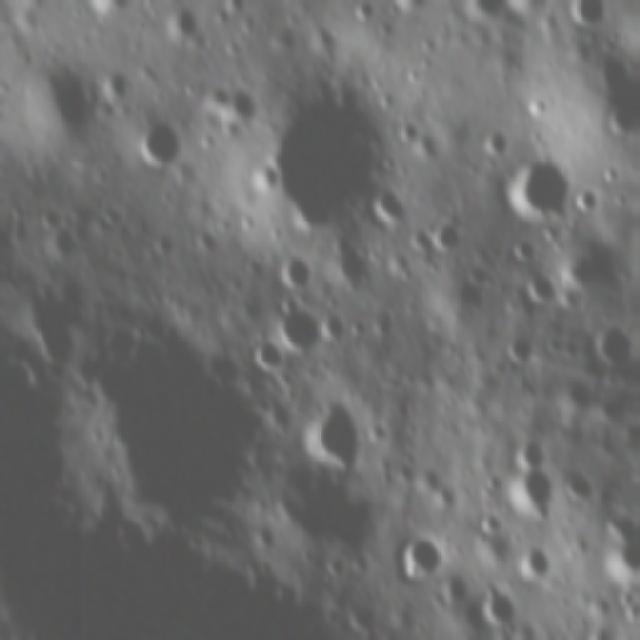crater: (93, 326, 270, 534), (256, 78, 398, 234), (24, 276, 88, 376), (298, 394, 372, 475), (40, 62, 106, 140), (506, 158, 582, 224), (139, 114, 192, 175), (277, 299, 332, 356), (332, 228, 378, 290), (400, 530, 451, 584), (590, 320, 638, 377), (566, 2, 628, 43), (473, 580, 521, 631), (224, 80, 268, 131), (522, 270, 575, 312), (559, 374, 604, 418), (430, 213, 475, 256), (98, 62, 140, 106), (375, 188, 416, 232), (571, 178, 615, 218), (465, 0, 532, 26), (254, 332, 292, 377), (515, 468, 556, 508), (562, 469, 604, 508), (478, 120, 516, 163), (519, 537, 556, 581), (278, 254, 320, 292), (32, 196, 78, 230), (46, 222, 86, 260), (439, 566, 475, 608), (170, 7, 207, 45), (506, 333, 542, 372), (511, 233, 547, 270), (518, 432, 552, 468), (352, 0, 391, 31), (193, 220, 224, 257), (147, 227, 182, 259), (475, 511, 511, 542), (374, 306, 404, 343), (470, 257, 501, 292), (401, 115, 430, 146), (352, 308, 374, 346)
